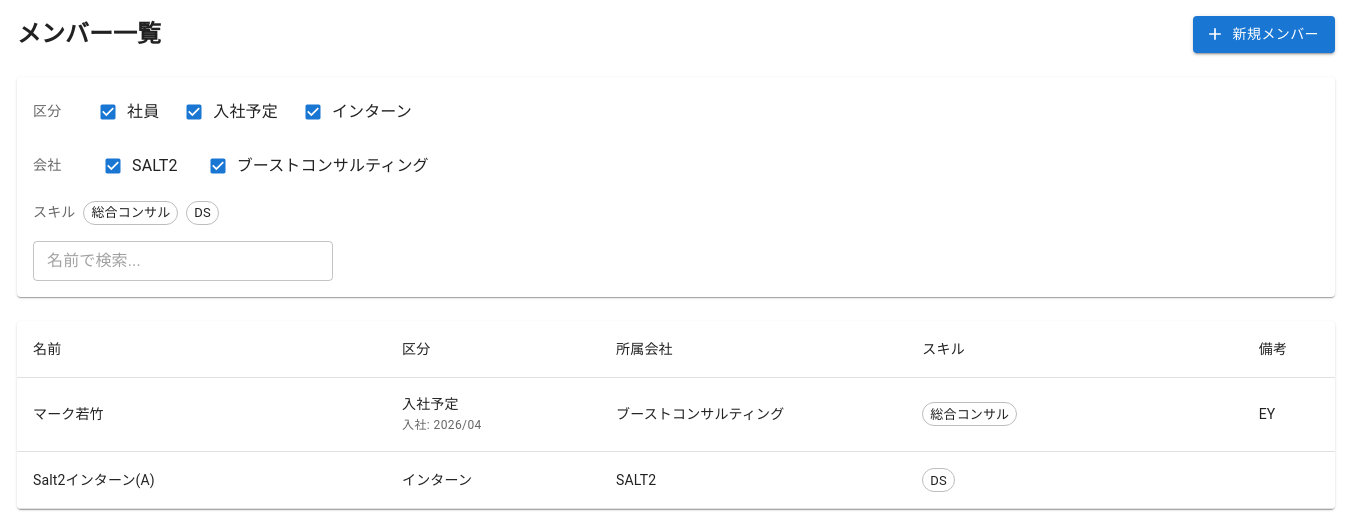
Test: MemberList › 所属会社フィルタでメンバーを絞り込める
The width and height of the screenshot is (1353, 528).
Click the checkbox labelled "ブーストコンサルティング".
click(318, 166)  # box [208,156,429,176]
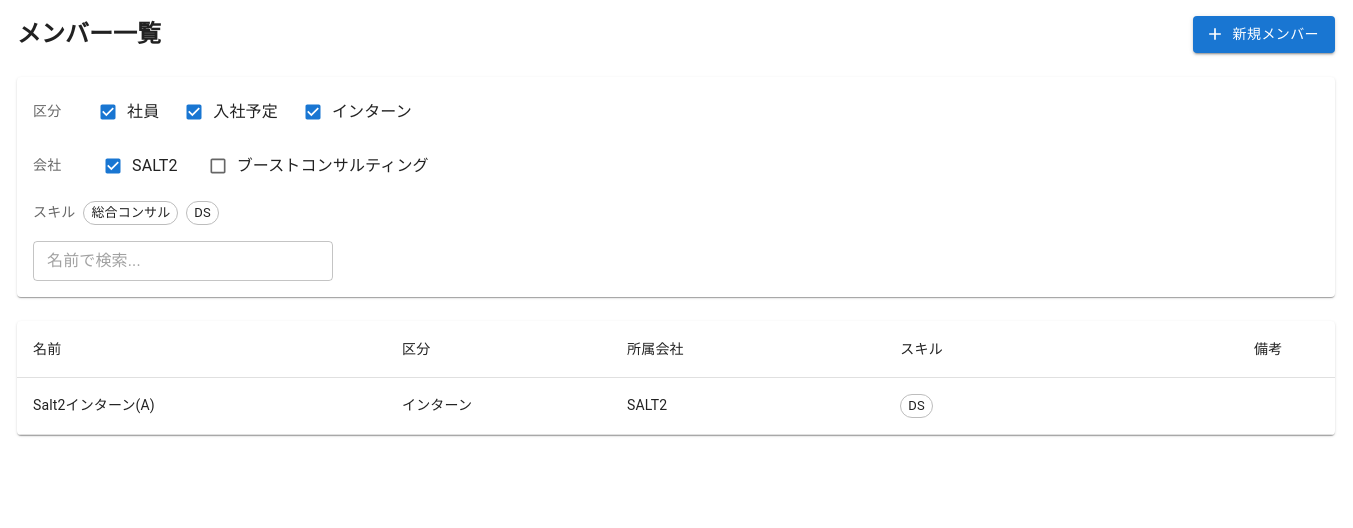
expect the text "Salt2インターン(A)" is shown: met, box [17,377,386,434]
expect the text "マーク若竹" is gone: met
